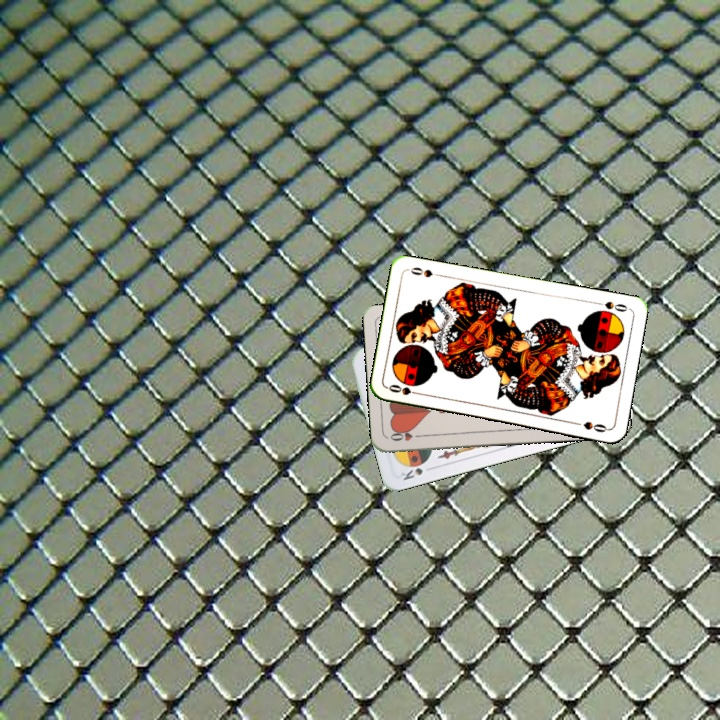HO: (386, 427, 426, 444)
SK: (397, 459, 428, 483)
SO: (385, 380, 425, 398), (591, 297, 630, 315)
